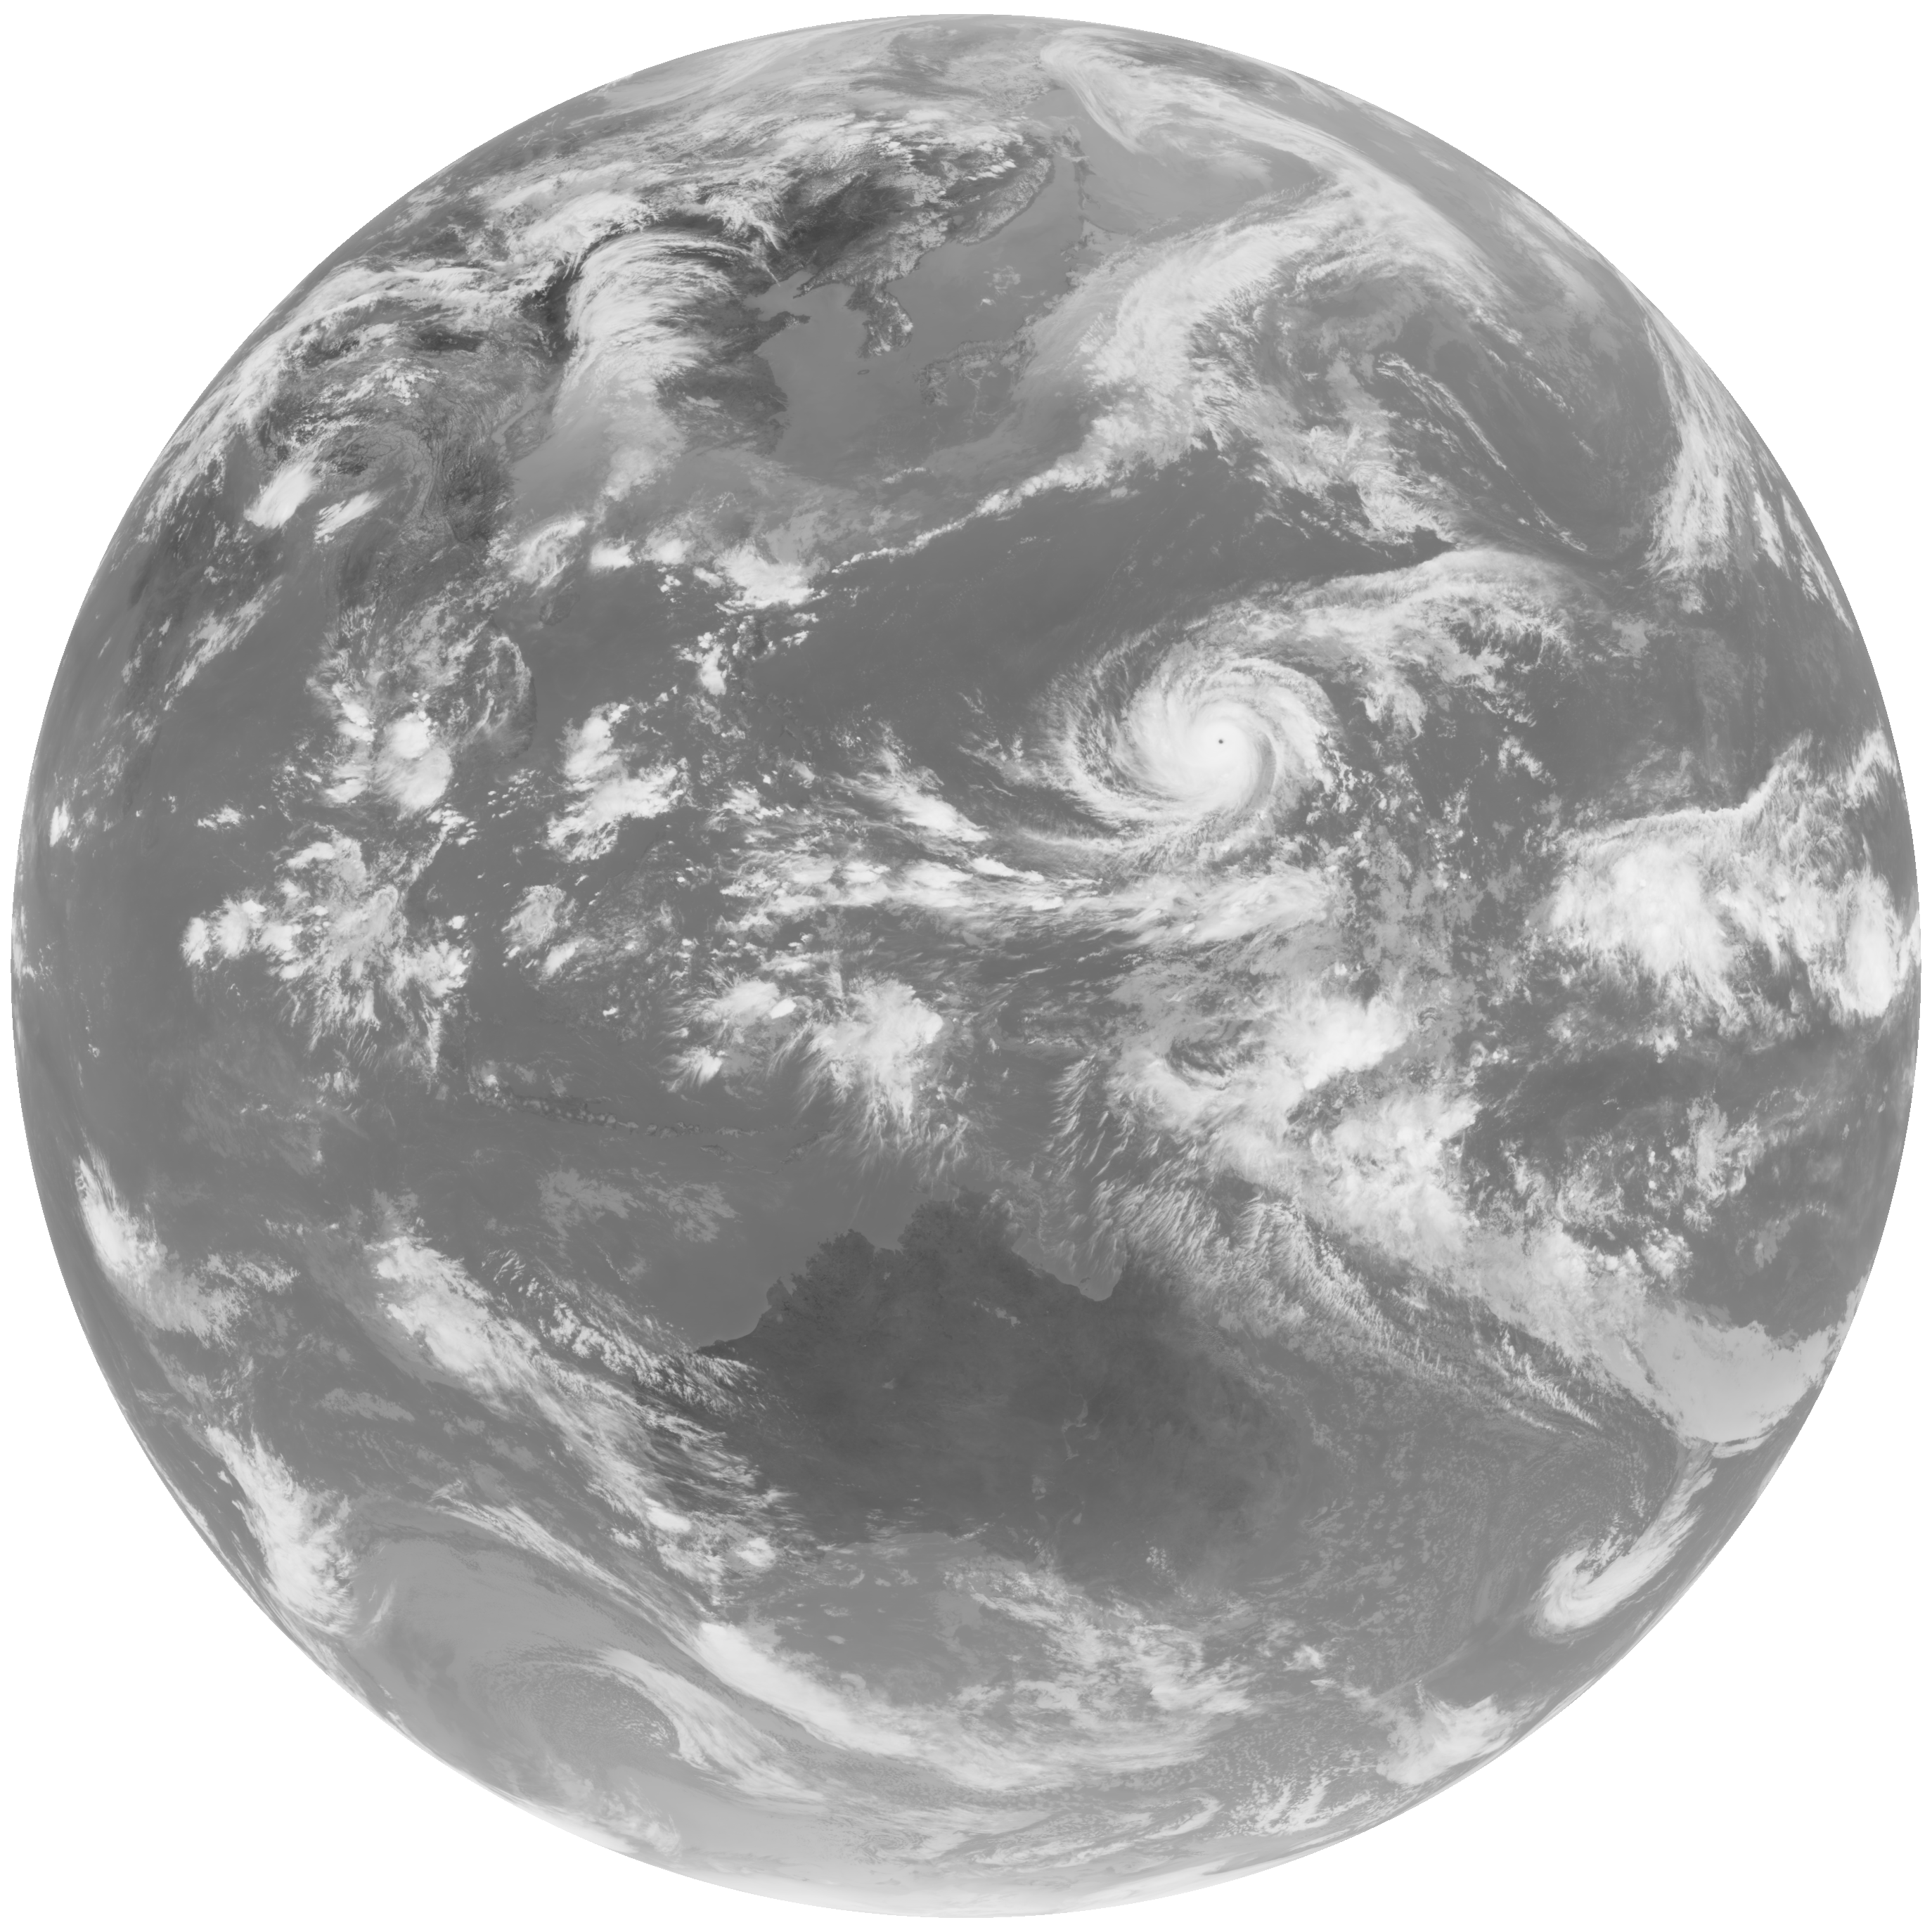typhoon: (888, 541, 1564, 906)
